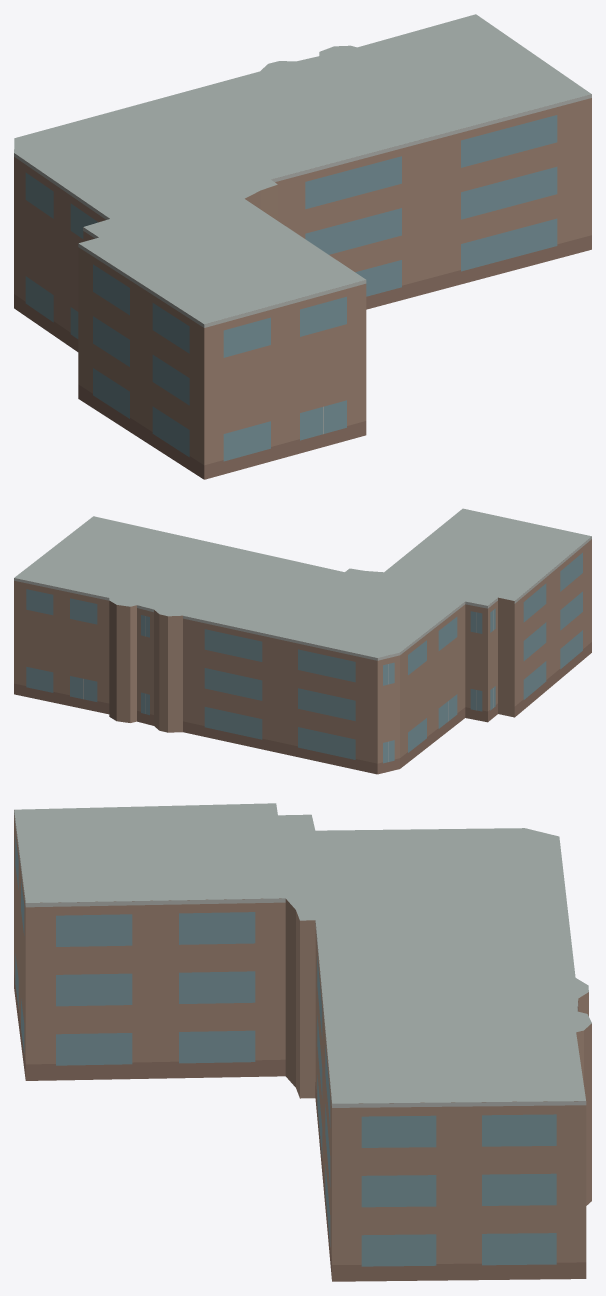
The model's file is survey-upis-32480516.glb.
3 views of the same model, one above another, from view 1: azimuth 30°, elevation 25°; view 2: azimuth 150°, elevation 25°; view 3: azimuth 270°, elevation 25° (orthographic). The views are drawn at different scales.
Visible parts, largest first — view 1: survey-upis-32480516.tmp; view 2: survey-upis-32480516.tmp; view 3: survey-upis-32480516.tmp.
Part boxes in pixels (x1,y1,x2,y2): survey-upis-32480516.tmp: (14, 14, 591, 479); survey-upis-32480516.tmp: (14, 508, 591, 774); survey-upis-32480516.tmp: (14, 803, 591, 1281).
Bounding box in the file's own units: 36.96 × 10.2 × 30.03.
